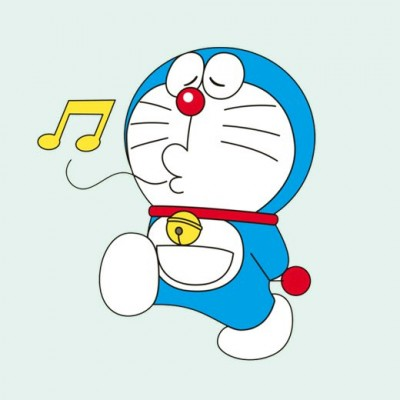Doraemon: (97, 23, 321, 363)
